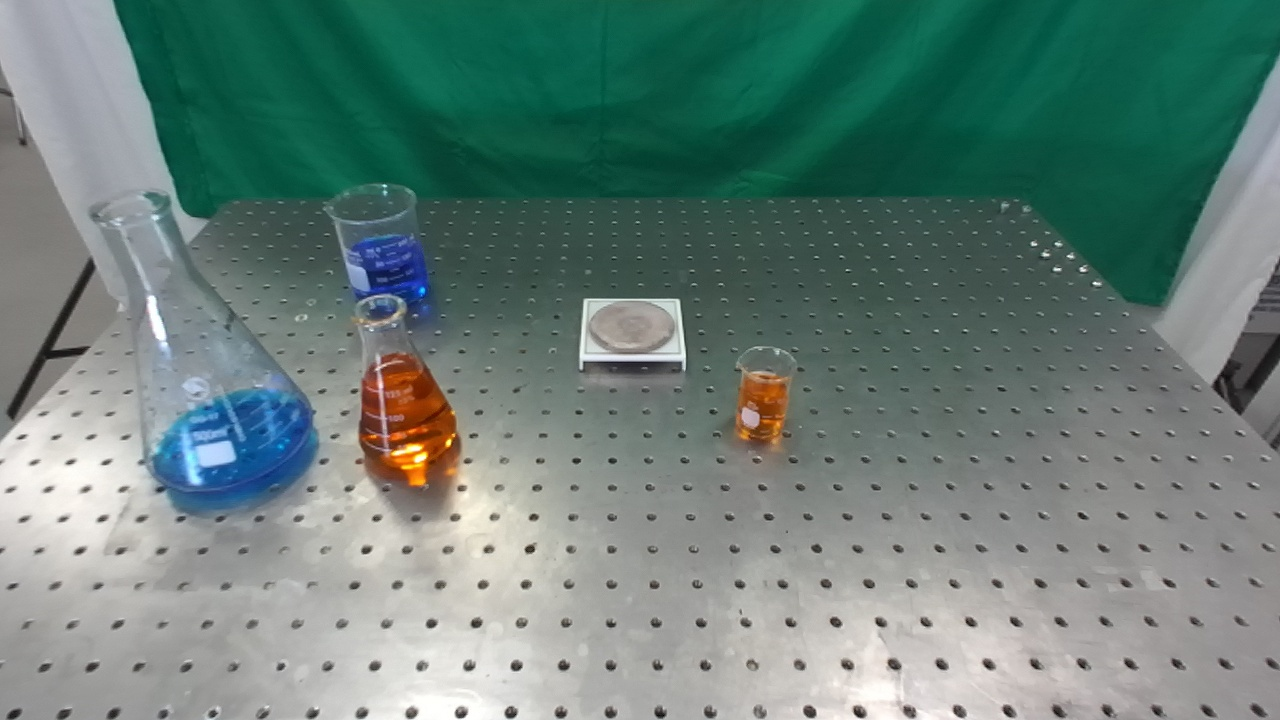glass: (87, 186, 314, 497), (347, 291, 459, 471), (325, 182, 432, 307), (736, 342, 795, 444)
plate: (579, 294, 690, 370)
